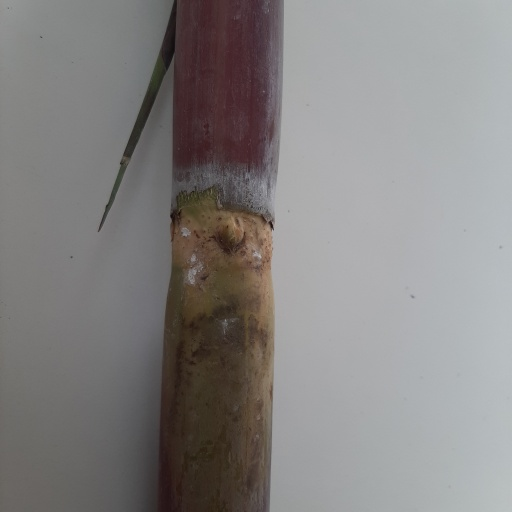Bud: (213, 214, 246, 257)
